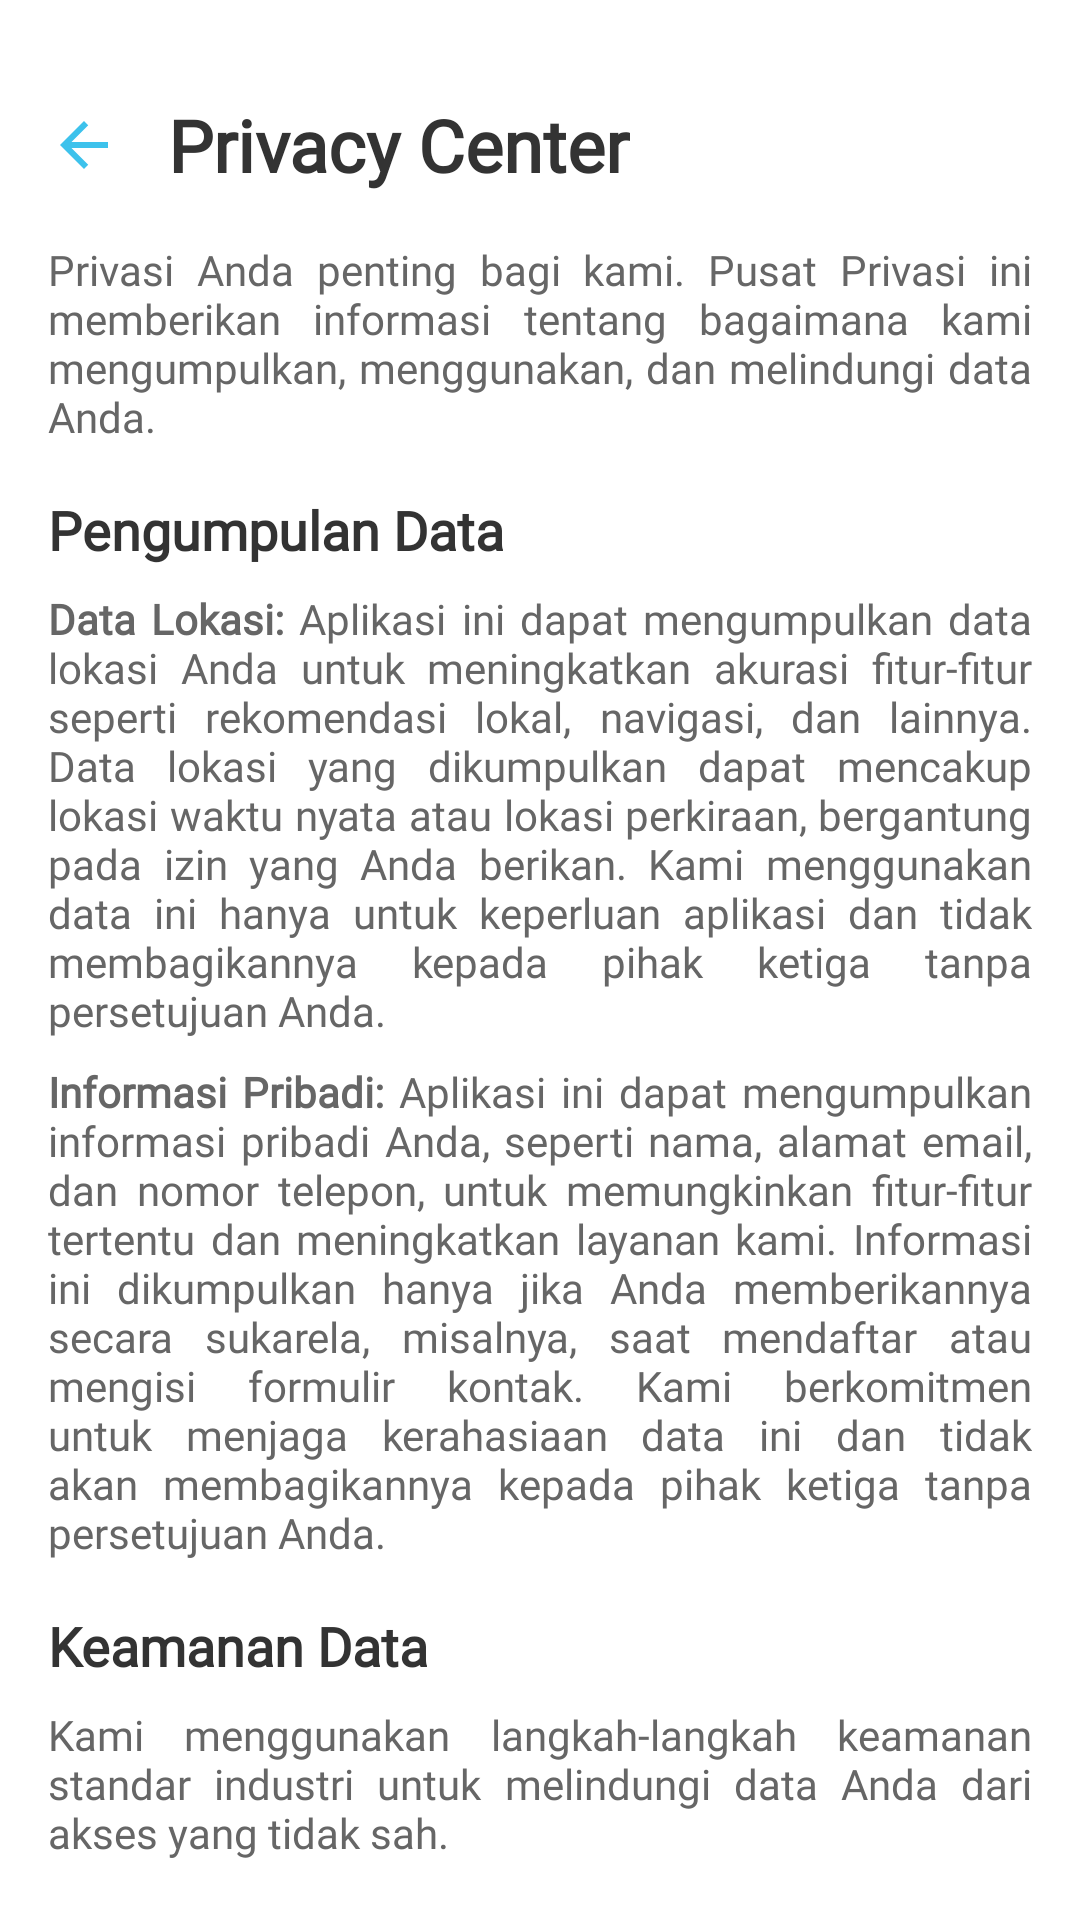

Icon click points for this 1080*1920 phone screenshot, format point (x, y):
back: point (84, 145)
